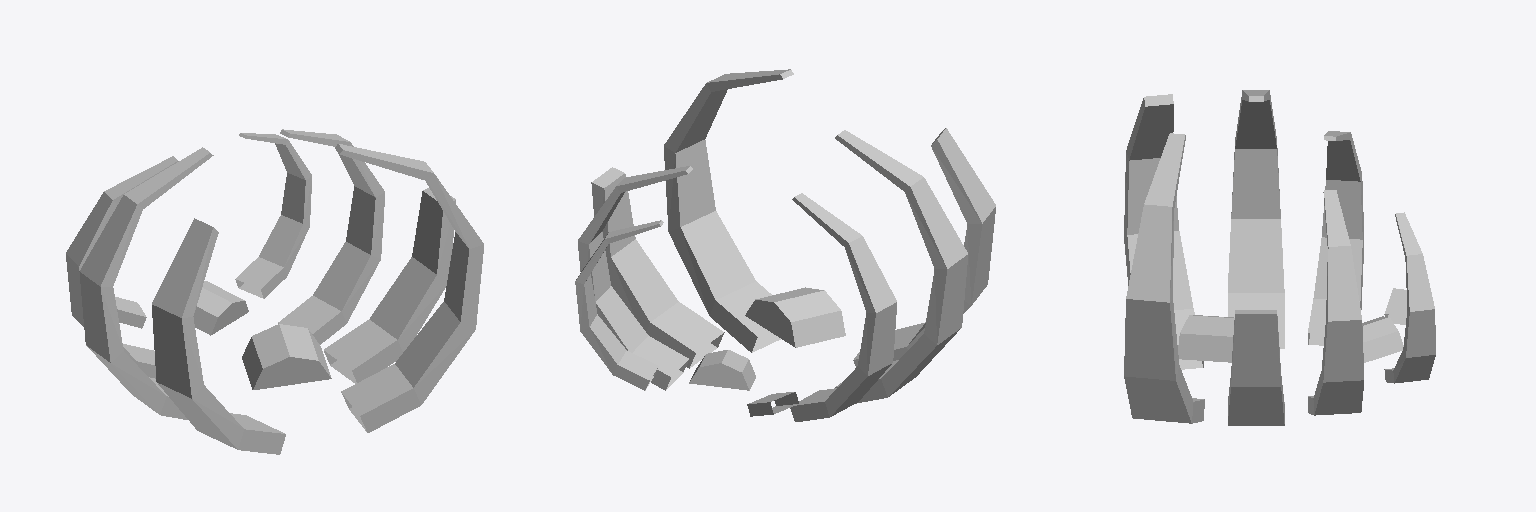
The model's file is ribCage.obj.
The picture shows the model from 3 angles: view 1: azimuth 30°, elevation 25°; view 2: azimuth 150°, elevation 25°; view 3: azimuth 270°, elevation 25°; orthographic projection.
Visible parts, largest first — view 1: ribcage_Cube.146; view 2: ribcage_Cube.146; view 3: ribcage_Cube.146.
Part boxes in pixels (x1,y1,x2,y2): ribcage_Cube.146: (66, 129, 483, 454); ribcage_Cube.146: (575, 69, 995, 421); ribcage_Cube.146: (1124, 90, 1435, 425).
Size of the model in its own units: 5.53 by 4.11 by 4.2.